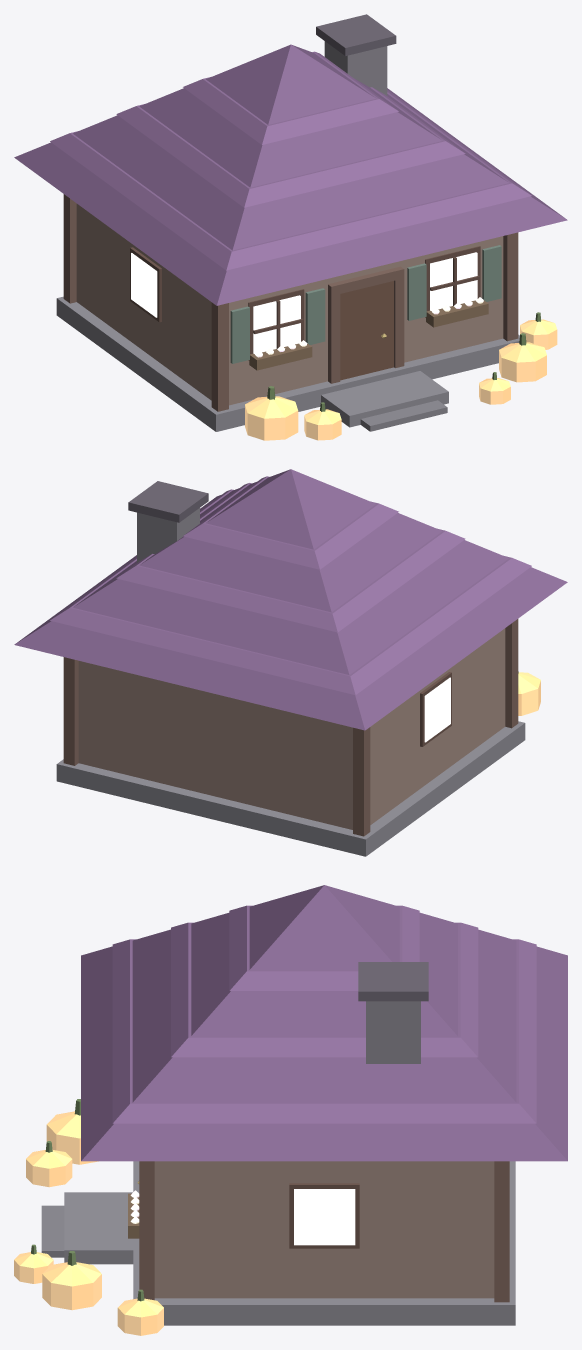
File: prop_cottage.glb
The picture shows the model from 3 angles, top to bottom: view 1: azimuth 30°, elevation 25°; view 2: azimuth 150°, elevation 25°; view 3: azimuth 270°, elevation 25°; orthographic projection. The views are drawn at different scales.
Visible parts, largest first — view 1: body, pumpkins, glow; view 2: body, glow, pumpkins; view 3: body, pumpkins, glow.
Part boxes in pixels (x1,y1,x2,y2): body: [14, 14, 567, 431]; pumpkins: [245, 312, 557, 440]; glow: [131, 252, 477, 353]; body: [14, 469, 567, 856]; glow: [424, 677, 450, 742]; pumpkins: [518, 671, 540, 715]; body: [41, 885, 567, 1325]; pumpkins: [14, 1099, 163, 1335]; glow: [294, 1189, 355, 1245].
Bounding box in the file's own units: 6.59 × 5.05 × 7.24.
